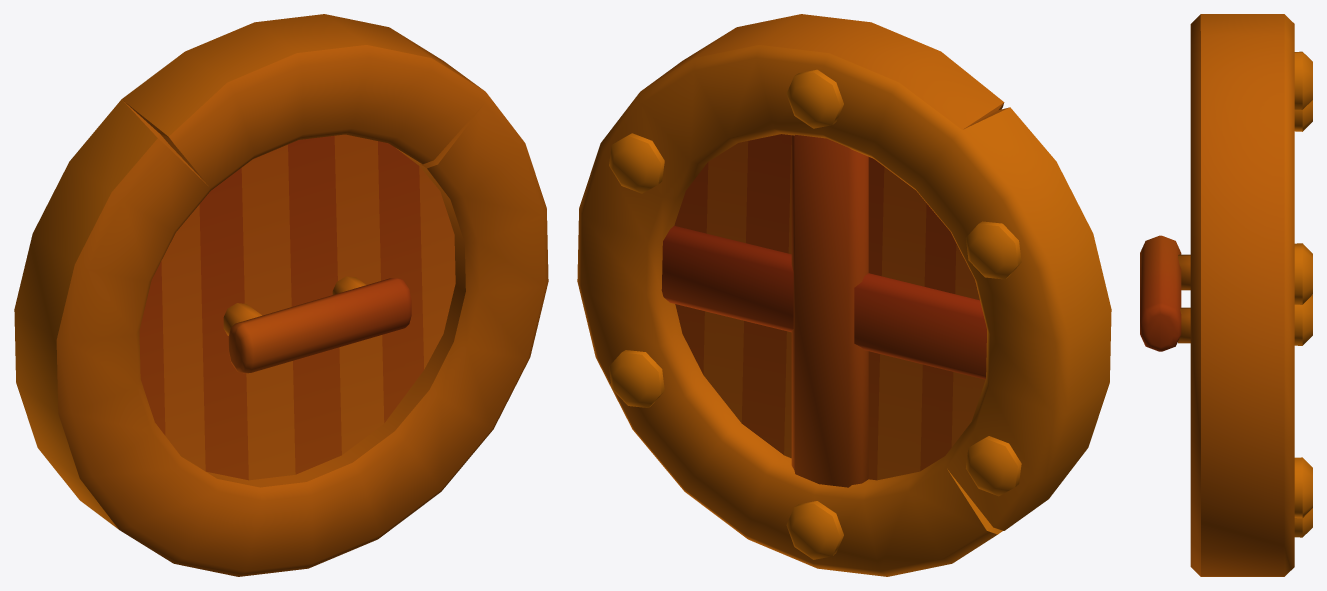
Rendered from Shield_V2_2.fbx.
The picture shows the model from 3 angles, left to right: view 1: azimuth 30°, elevation 25°; view 2: azimuth 150°, elevation 25°; view 3: azimuth 270°, elevation 25°; orthographic projection.
Parts seen in each view (by area): view 1: Shield_V2_2; view 2: Shield_V2_2; view 3: Shield_V2_2.
Part boxes in pixels (bbox=[...]): Shield_V2_2: bbox=[14, 14, 548, 576]; Shield_V2_2: bbox=[577, 14, 1111, 576]; Shield_V2_2: bbox=[1140, 14, 1312, 576].
Size of the model in its own units: 0.4452 by 0.4482 by 0.1366.
